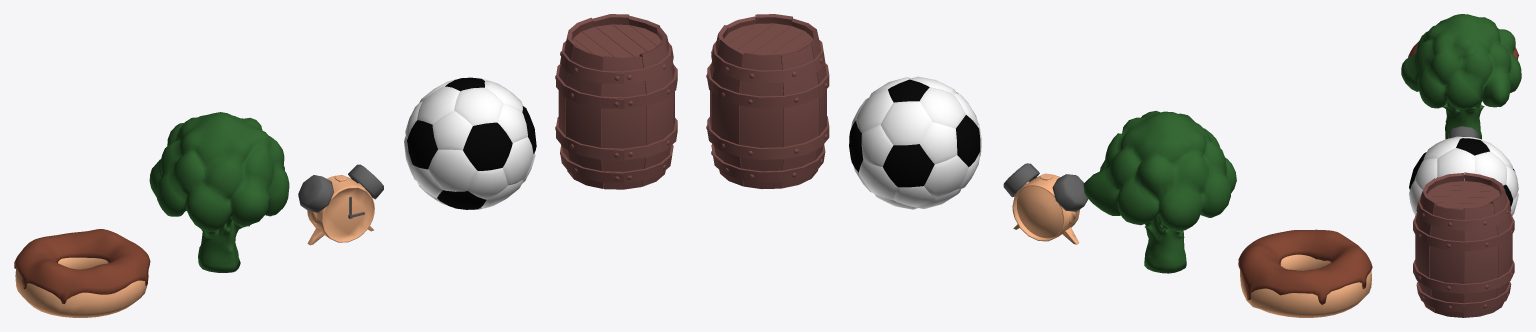
File: van alles en nog wat4.fbx
3 views of the same model, side by side, from view 1: azimuth 30°, elevation 25°; view 2: azimuth 150°, elevation 25°; view 3: azimuth 270°, elevation 25° (orthographic). The views are drawn at different scales.
Visible parts, largest first — view 1: barrel, toon_broccoli, soccer_ball, Topping, Clock; view 2: barrel, toon_broccoli, soccer_ball, Topping, Clock; view 3: barrel, toon_broccoli, soccer_ball, Clock, Topping.
Boxes of the visible parts, box(x1,y1,x2,y2) form: barrel: box(555, 14, 677, 189); toon_broccoli: box(149, 112, 289, 272); soccer_ball: box(404, 77, 536, 209); Topping: box(14, 229, 150, 317); Clock: box(298, 164, 383, 245); barrel: box(706, 14, 829, 188); toon_broccoli: box(1083, 111, 1236, 273); soccer_ball: box(849, 76, 981, 209); Topping: box(1238, 229, 1372, 317); Clock: box(1003, 163, 1088, 244); barrel: box(1413, 172, 1514, 317); toon_broccoli: box(1401, 14, 1521, 139); soccer_ball: box(1409, 136, 1518, 216); Clock: box(1448, 126, 1478, 138); Topping: box(1408, 41, 1518, 59).
Bounding box in the file's own units: 2187 × 489 × 426.
